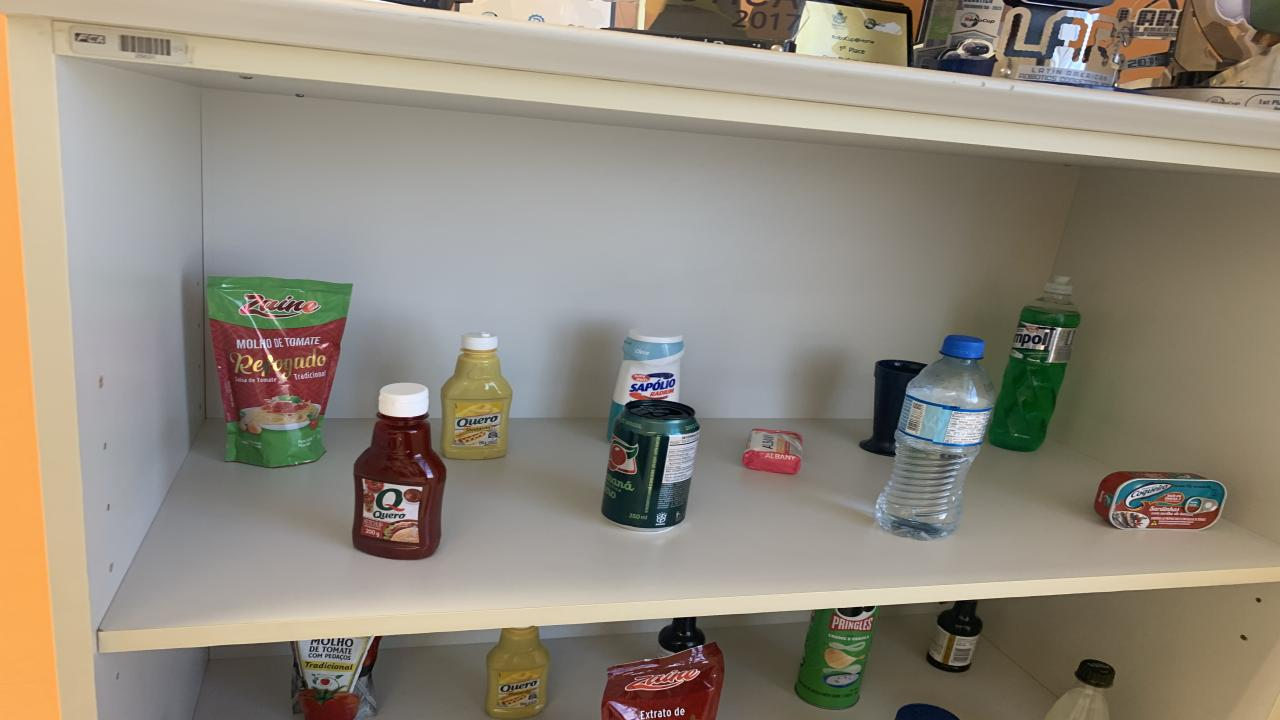Cleaner-Cleanup_Items: (608, 328, 685, 435)
Detergent-Cleanup_Items: (988, 276, 1080, 452)
English_Sauce-Pantry_Items: (928, 600, 982, 673), (658, 617, 705, 658)
Guarana_Can-Drinks: (600, 399, 700, 532)
Ketchup-Pantry_Items: (352, 382, 445, 559)
Mayonnaise-Pantry_Items: (895, 703, 958, 720)
Mustard-Pantry_Items: (440, 332, 512, 459), (485, 626, 550, 718)
Pringles-Snacks: (795, 606, 880, 709)
Soap-Cleanup_Items: (742, 429, 802, 474)
Soda-Drinks: (1045, 660, 1115, 720)
Tomato_Sauce-Pantry_Items: (205, 278, 352, 467), (602, 643, 725, 720), (290, 636, 380, 720)
Tuna_Can-Pantry_Items: (1095, 472, 1228, 531)
Water_Bottle-Drinks: (875, 336, 995, 540)
